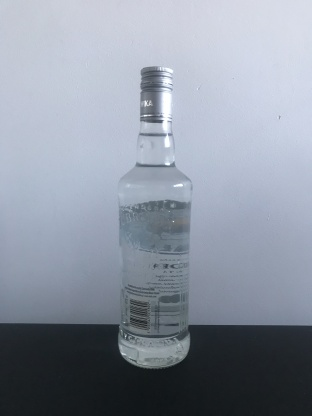nakretka: (138, 64, 174, 123)
